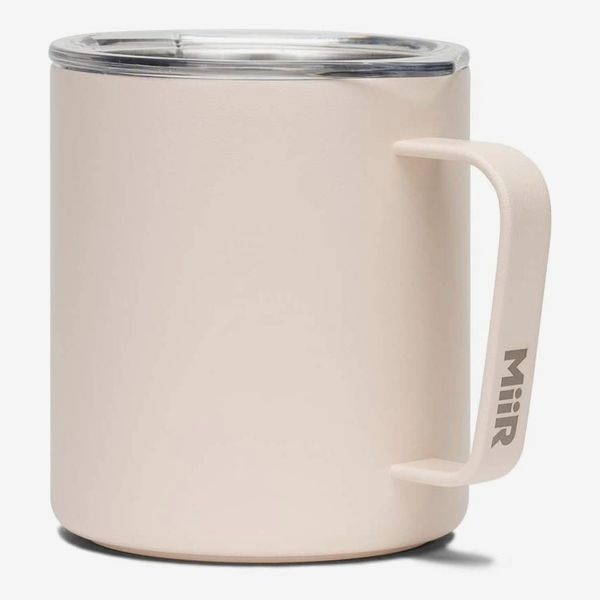cup: (42, 20, 555, 572)
